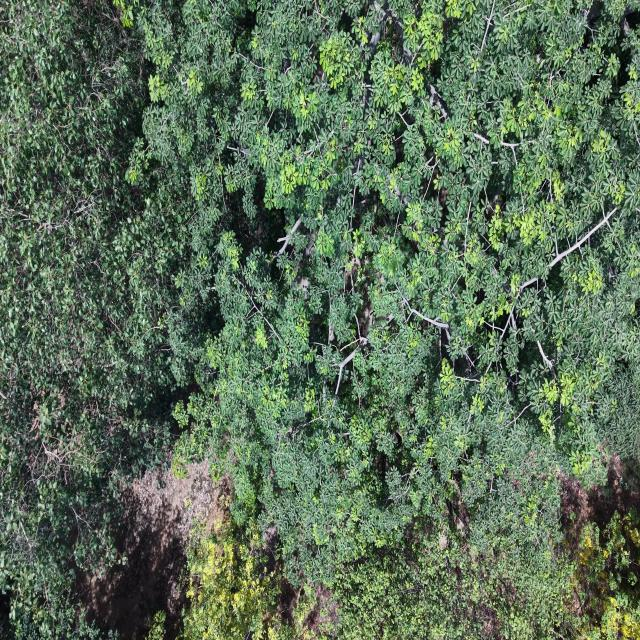DRY_AREA: (80, 462, 229, 639)
VEGETATION_TREE: (0, 0, 639, 639), (0, 0, 216, 637)
